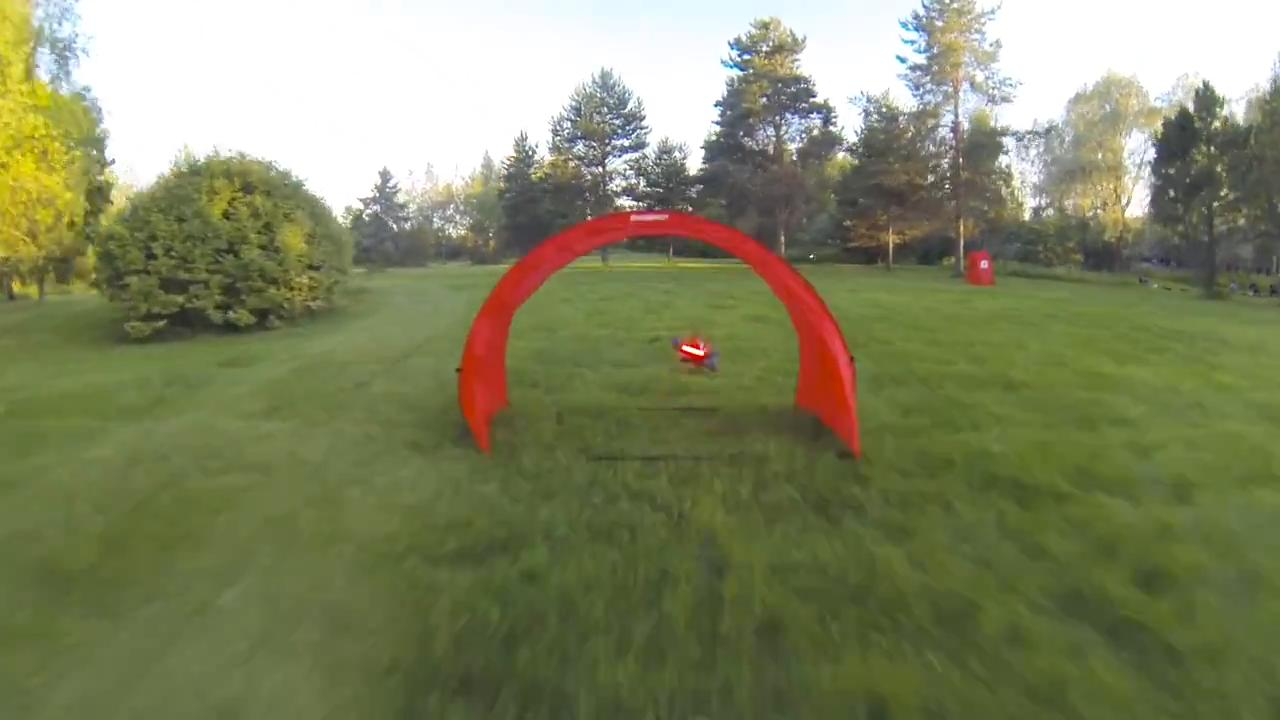gate: (441, 206, 864, 452)
